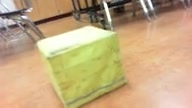cube: (36, 25, 127, 108)
